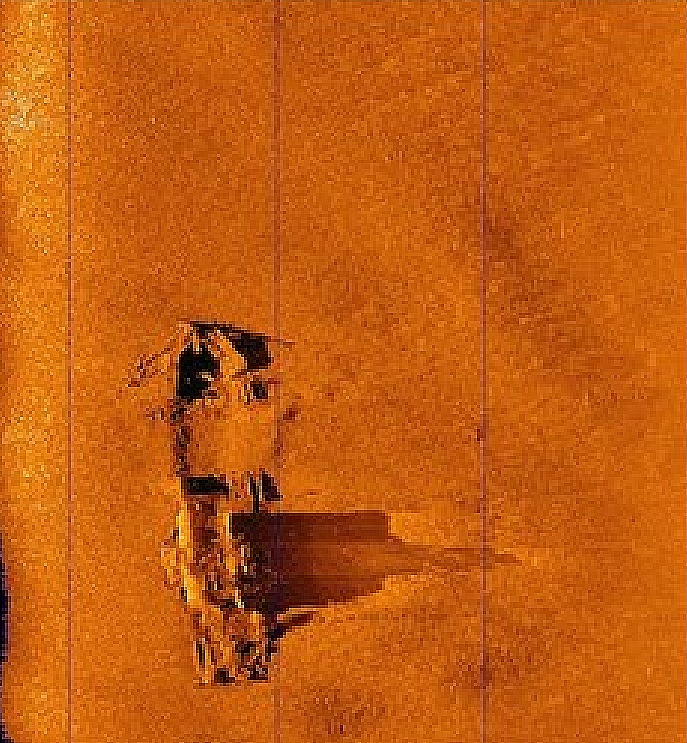ship: (122, 314, 283, 690)
